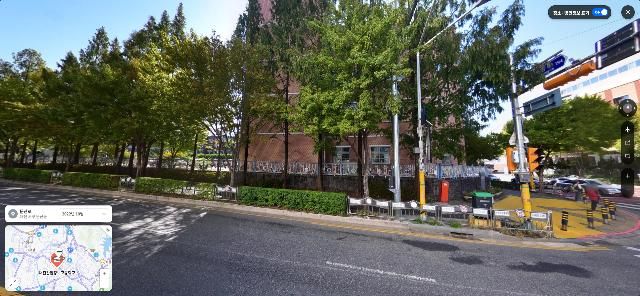other: (226, 0, 541, 189), (1, 3, 209, 178), (284, 0, 427, 199), (143, 26, 281, 187), (495, 95, 639, 193)
